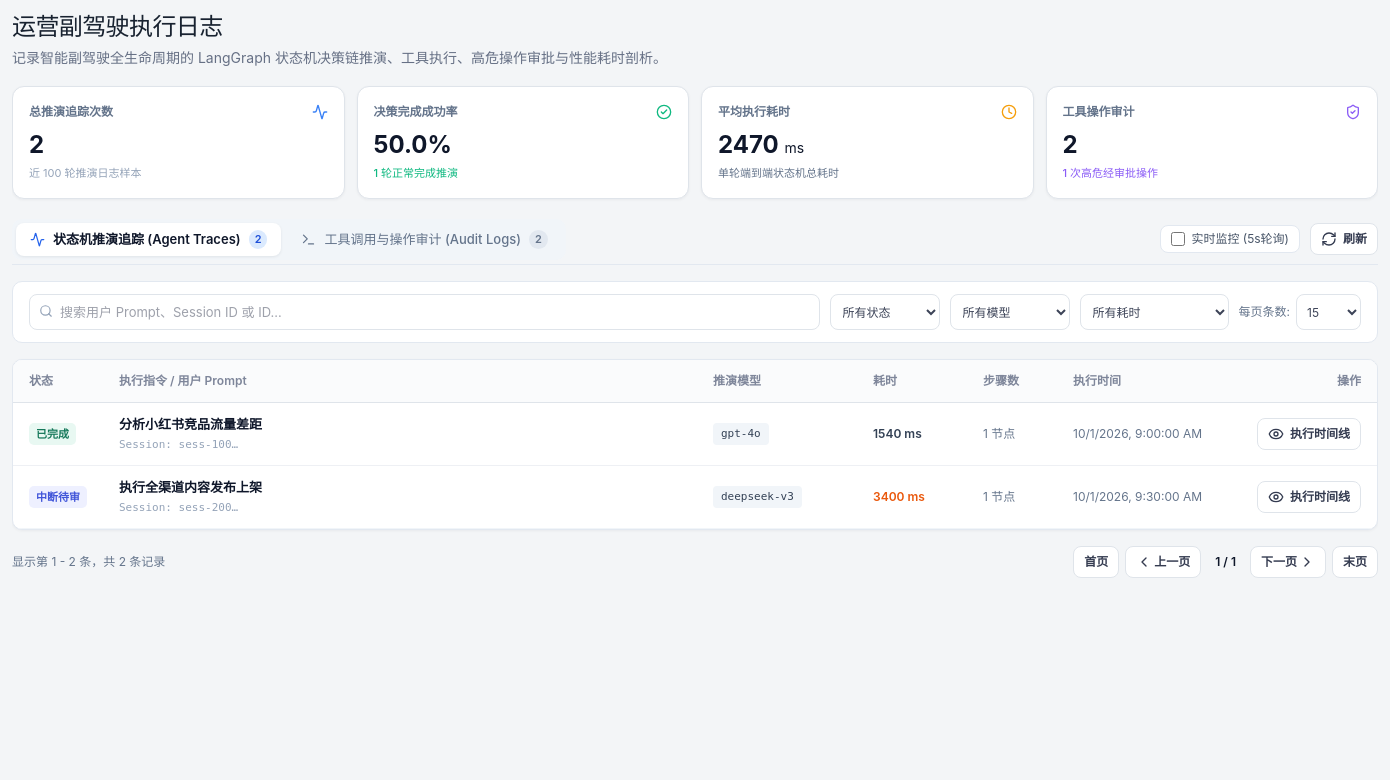
Test: CopilotLogsView Component › filters traces by keyword
Check: the text "分析小红书竞品流量差距" is shown, box [119,416,262,432]
Type "小红书" into the field with placeholder "搜索用户 Prompt、Session ID 或 ID…" at (424, 312), box [29,294,820,330]
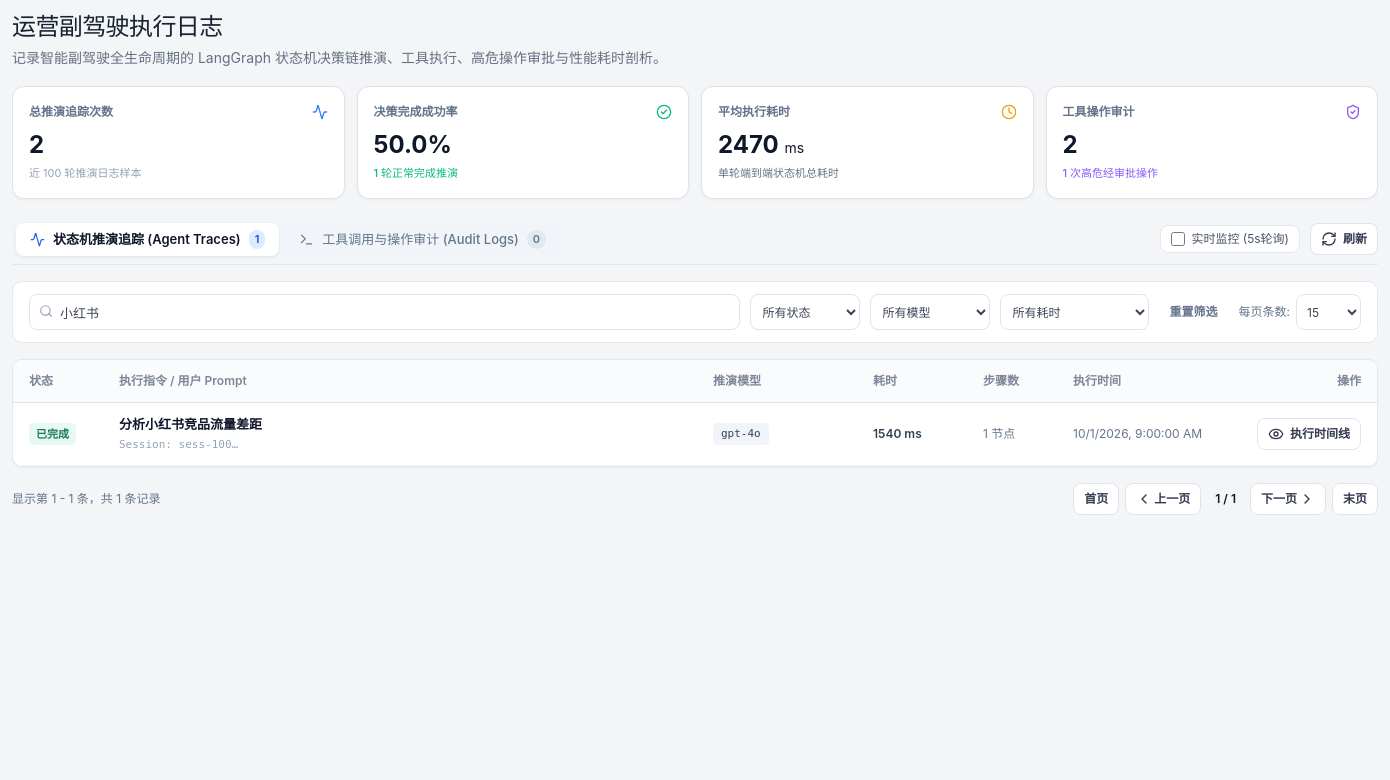
Check: the text "分析小红书竞品流量差距" is shown, box [119,416,262,432]
Check: the text "执行全渠道内容发布上架" is gone
